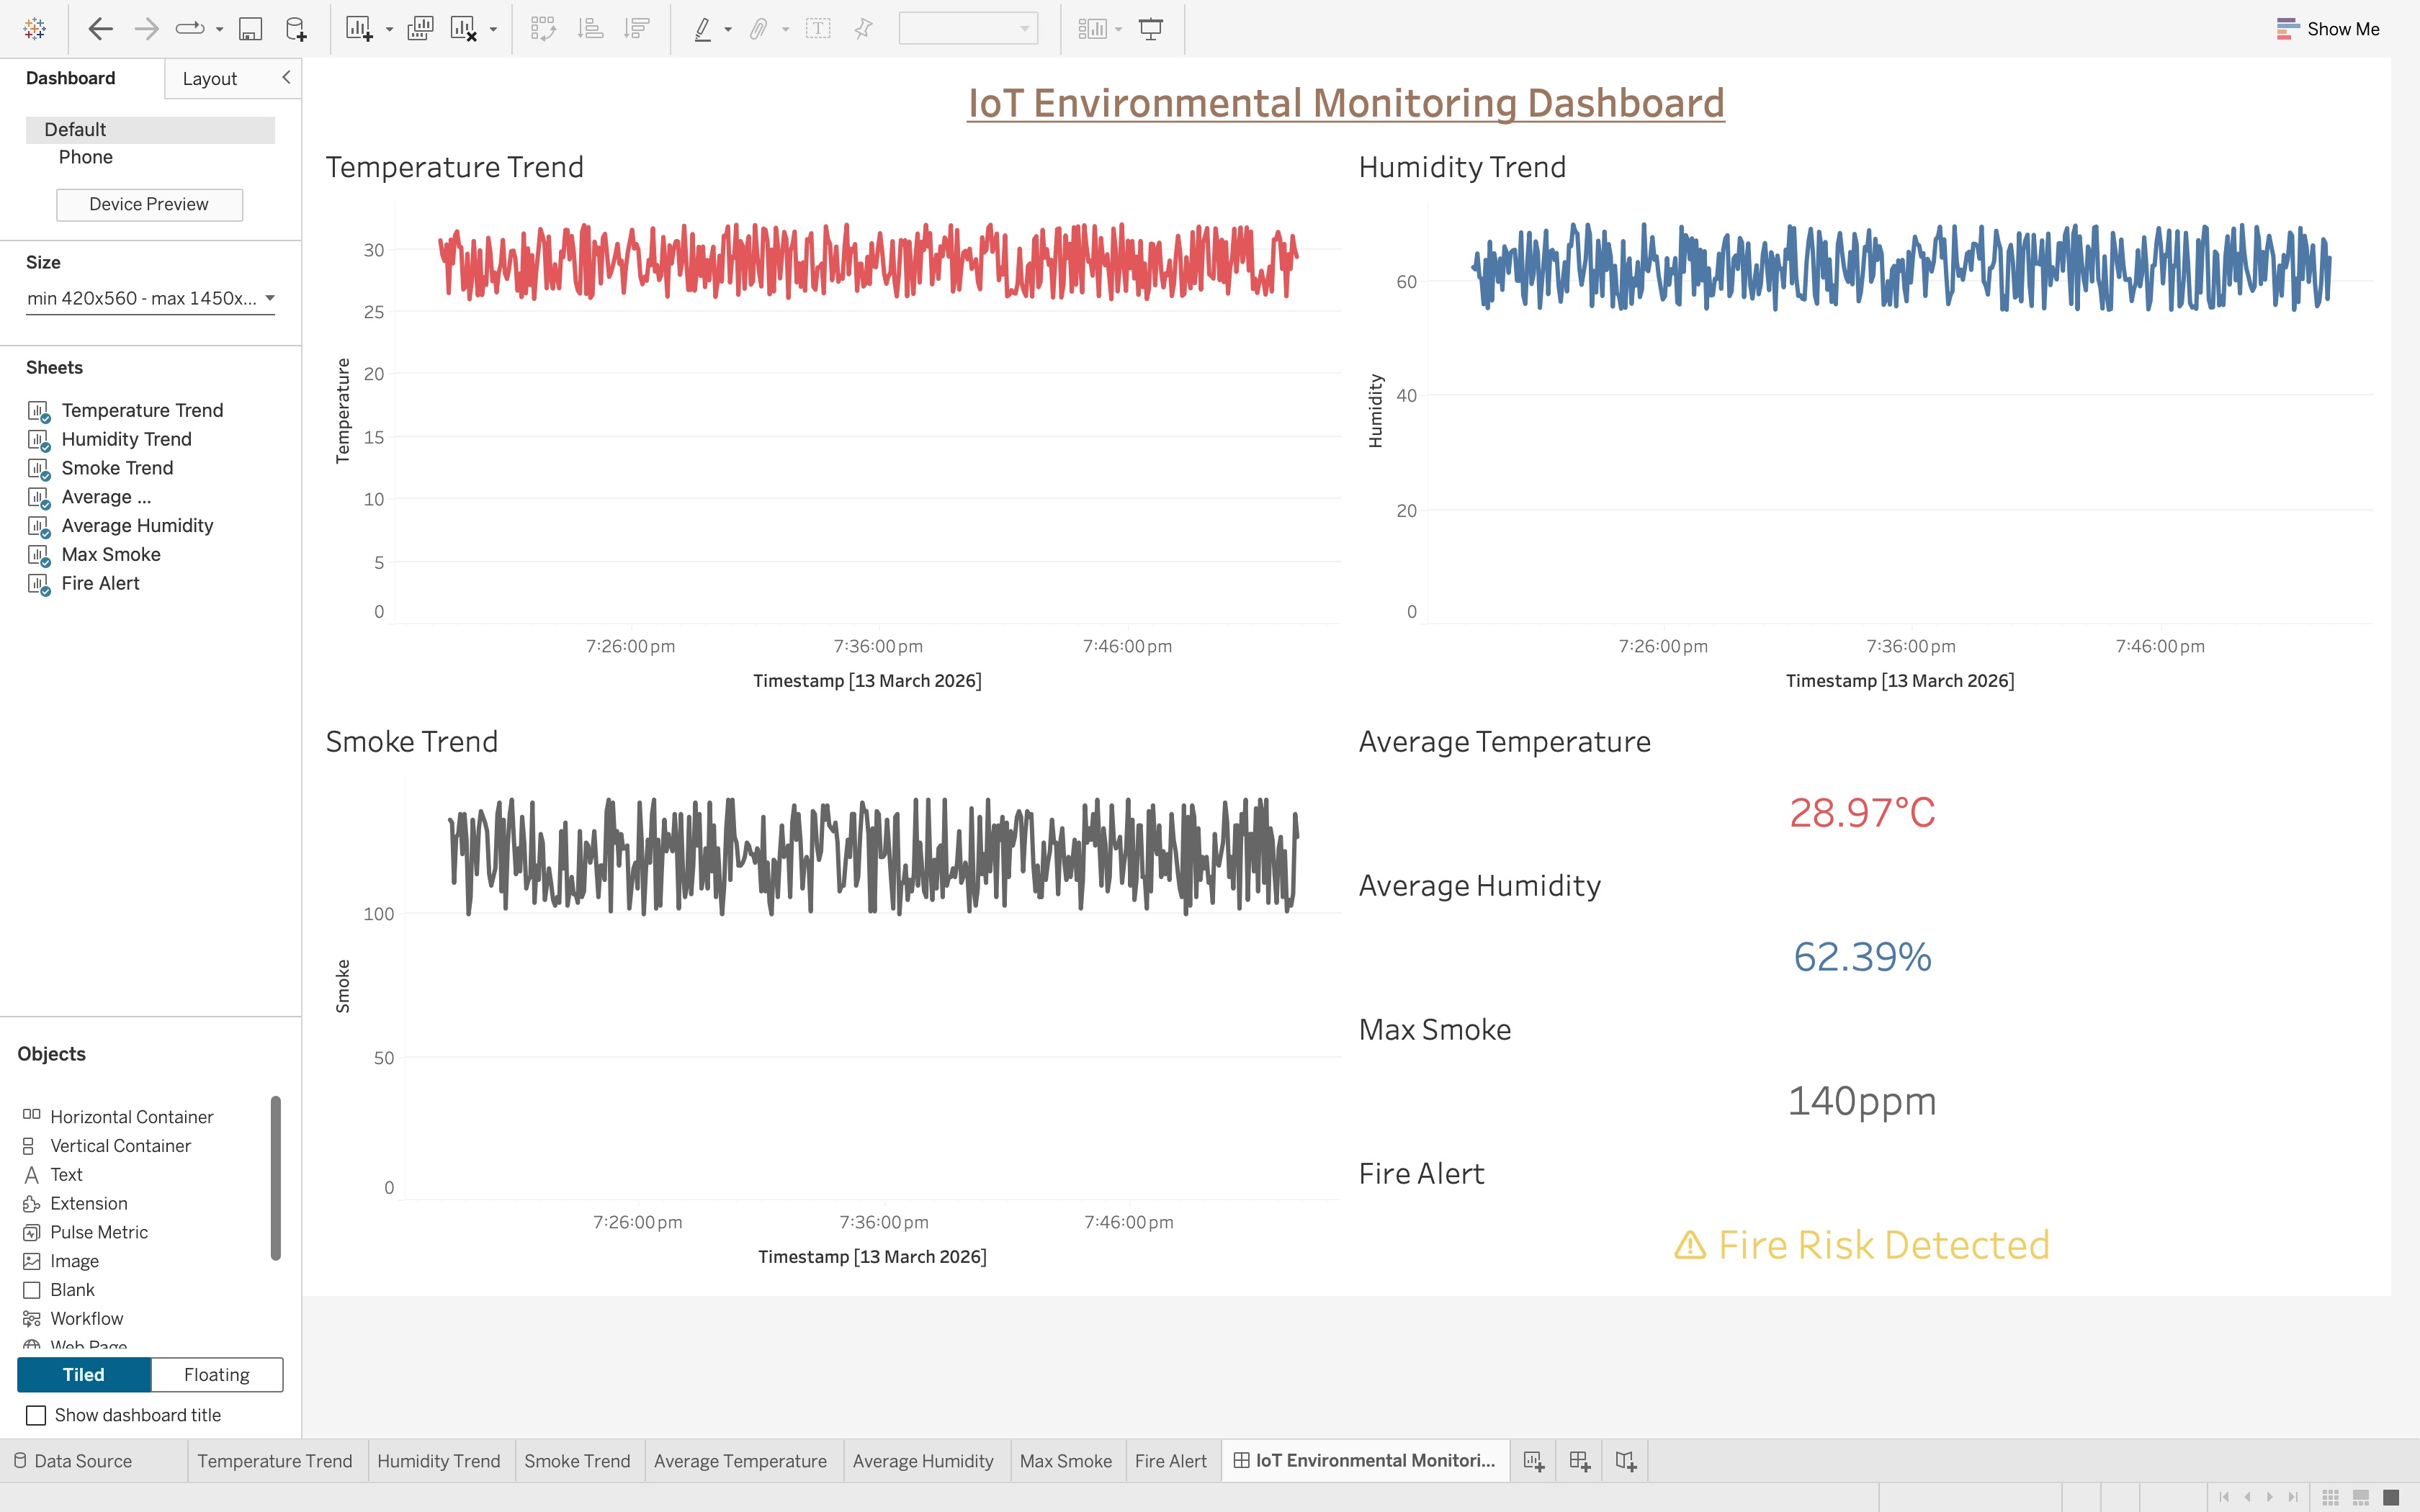

This screenshot's page, from the dashboard's own definition file:
{"tool":"tableau","page":{"name":"IoT Environmental Monitoring Dashboard","canvas":[650,860],"ordinal":0},"visuals":[{"type":"title","box":[8,8,634,45]},{"type":"worksheet","title":"Temperature Trend","mark":"Line","rows":["temperature"],"cols":["timestamp"],"box":[8,53,317,399.5]},{"type":"worksheet","title":"Humidity Trend","mark":"Automatic","rows":["humidity"],"cols":["timestamp"],"box":[325,53,317,399.5]},{"type":"worksheet","title":"Smoke Trend","mark":"Automatic","rows":["smoke"],"cols":["timestamp"],"box":[8,452.5,317,399.5]},{"type":"worksheet","title":"Average Temperature","mark":"Automatic","box":[325,452.5,317,99.9]},{"type":"worksheet","title":"Average Humidity","mark":"Automatic","box":[325,552.3,317,99.9]},{"type":"worksheet","title":"Max Smoke","mark":"Automatic","box":[325,652.2,317,99.9]},{"type":"worksheet","title":"Fire Alert","mark":"Automatic","box":[325,752.1,317,99.9]}]}

Visuals, with their boxes on the page's 650x860 design canvas (x1, y1, x2, y2). These are canvas units, not pixel positions in the 2420x1512 screenshot, which may show the page scaled, cropped or inside an application window:
title: box=[8, 8, 642, 53]
"Temperature Trend" worksheet (Line marks): box=[8, 53, 325, 452]
"Humidity Trend" worksheet: box=[325, 53, 642, 452]
"Smoke Trend" worksheet: box=[8, 452, 325, 852]
"Average Temperature" worksheet: box=[325, 452, 642, 552]
"Average Humidity" worksheet: box=[325, 552, 642, 652]
"Max Smoke" worksheet: box=[325, 652, 642, 752]
"Fire Alert" worksheet: box=[325, 752, 642, 852]
